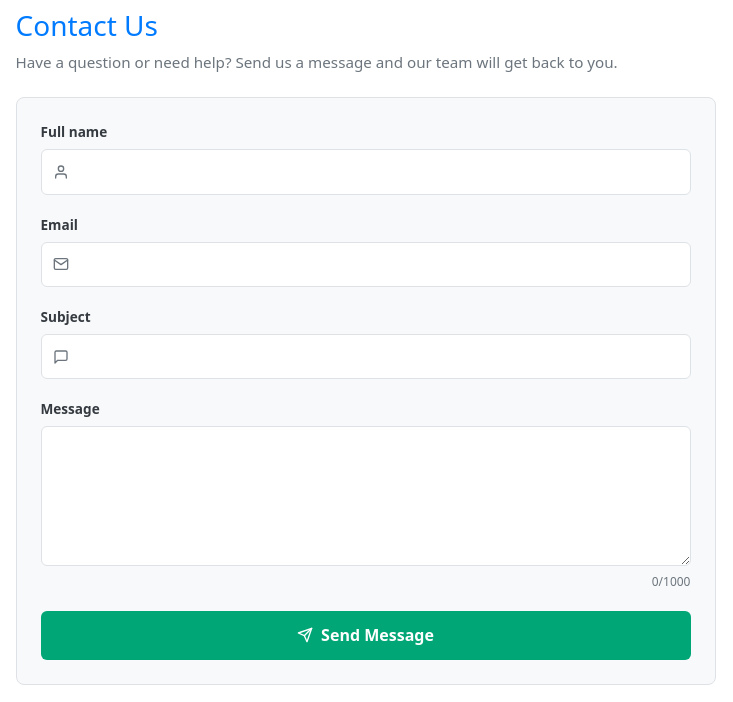
Contact › updates the character counter as the message changes and caps input length
Expected: the text "0/1000" is shown, [652,573,690,591]
Type "Hello there" into the text box labelled "Message" at (366, 496), box [40,426,690,566]
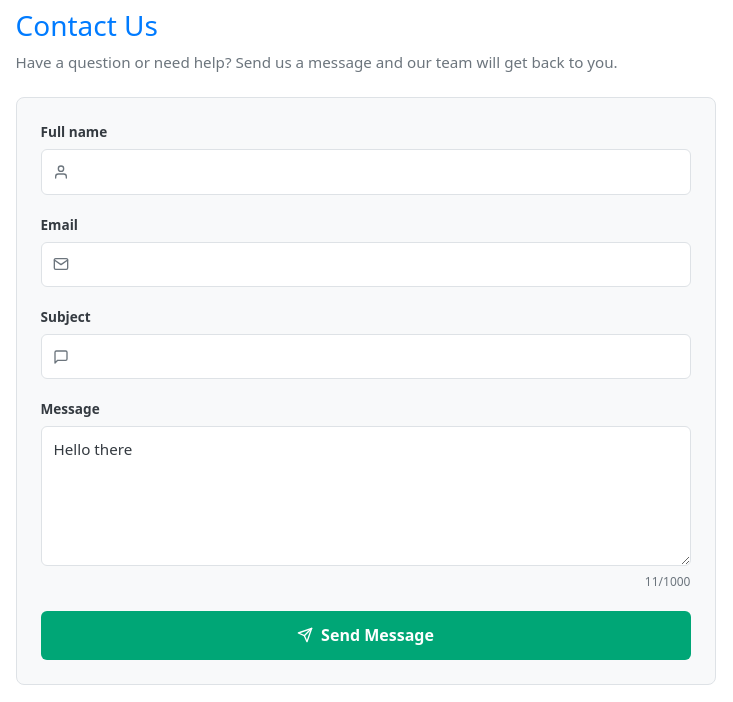
Result: the text "11/1000" is shown at [645,573,690,591]
